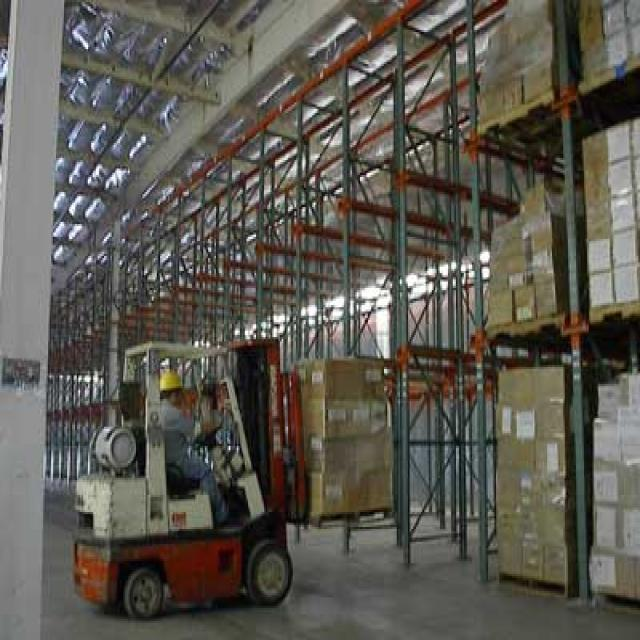box: (309, 388, 389, 445), (313, 470, 394, 516), (317, 440, 394, 477), (313, 359, 384, 398), (498, 368, 564, 404), (583, 124, 630, 172), (476, 75, 522, 116), (499, 470, 535, 507), (534, 256, 555, 316), (527, 217, 558, 256), (594, 507, 621, 550), (522, 183, 550, 222), (498, 442, 535, 470), (594, 465, 620, 501), (533, 443, 564, 473), (534, 480, 565, 510), (535, 406, 563, 438), (487, 289, 513, 323), (594, 420, 617, 458), (499, 513, 532, 539), (513, 402, 536, 439), (535, 512, 565, 540), (598, 384, 622, 419), (498, 539, 522, 573), (542, 549, 565, 583), (514, 283, 535, 320), (496, 403, 513, 439), (522, 547, 542, 576)
